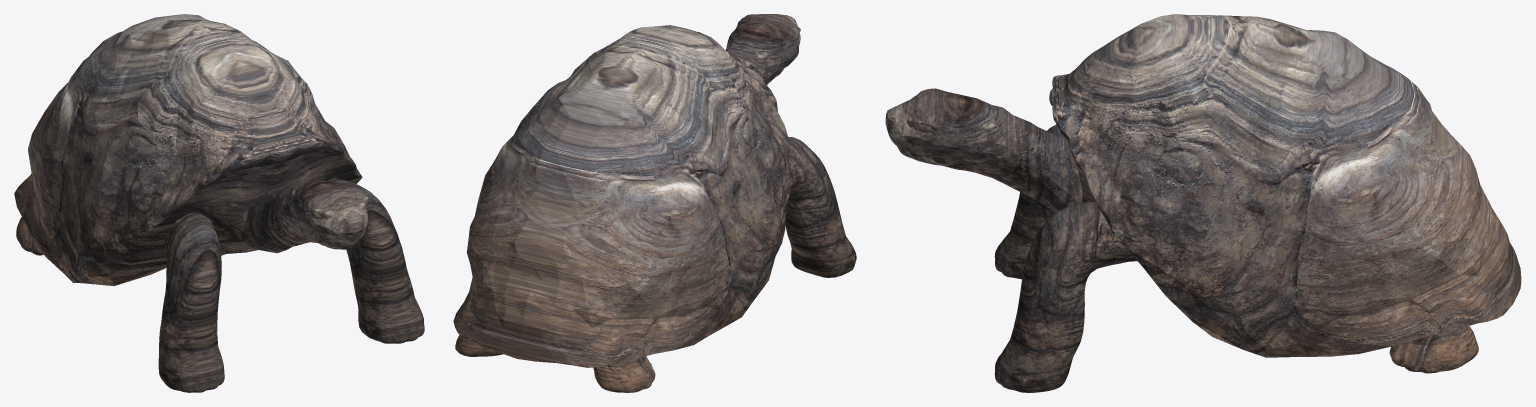
Rendered from Tortoise2.obj.
3 renders of one model, left to right at view 1: azimuth 30°, elevation 25°; view 2: azimuth 150°, elevation 25°; view 3: azimuth 270°, elevation 25°, orthographic. The views are drawn at different scales.
Parts seen in each view (by area): view 1: tortoise; view 2: tortoise; view 3: tortoise.
Boxes of the visible parts, x1,y1,x2,y2 form: tortoise: (14, 14, 424, 392); tortoise: (453, 14, 856, 392); tortoise: (885, 14, 1521, 392).
Bounding box in the file's own units: 0.7072 × 0.7014 × 1.33.
Materials: 3 (3 with a texture image).
